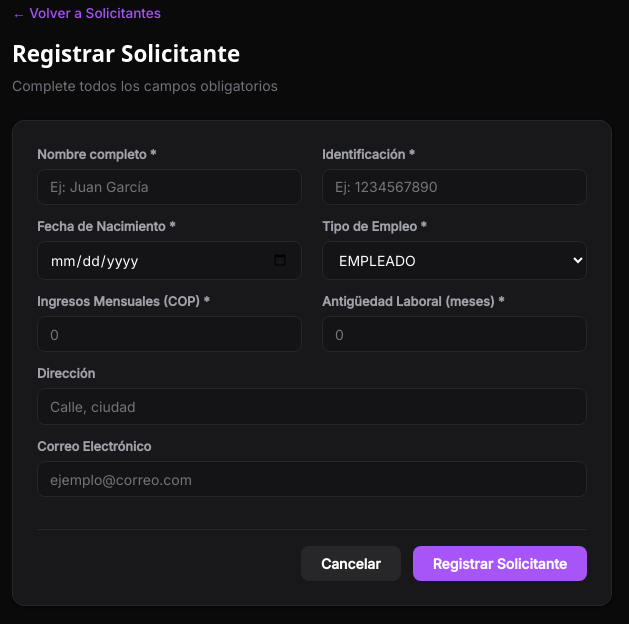
Test: RegisterApplicant — submit behavior › submit button is disabled while loading (promise pending)
This screenshot has width=629, height=624.
Type "Carlos Lopez" into the field with placeholder "Ej: Juan García" at coordinates (170, 187), box x1=37 y1=169 x2=302 y2=205
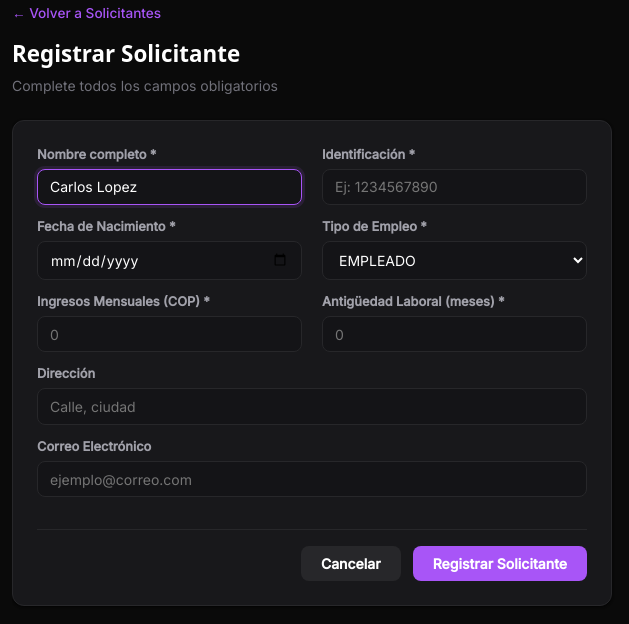
Type "1122334455" into the field with placeholder "Ej: 1234567890" at coordinates (454, 187), box x1=322 y1=169 x2=587 y2=205
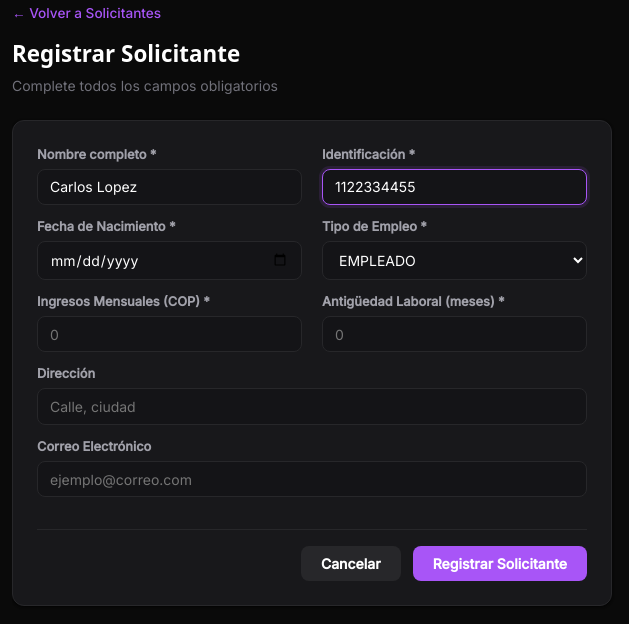
Type "1990-05-15" into the date field at coordinates (170, 260), box x1=37 y1=241 x2=302 y2=280
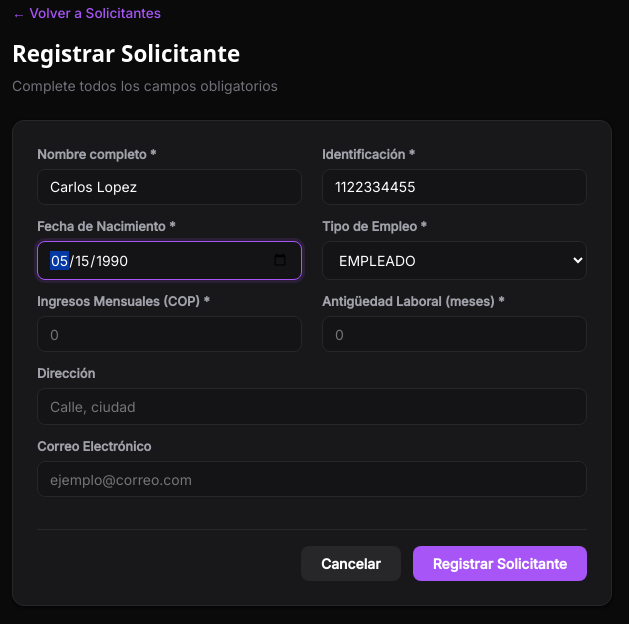
Type "2500000" into the number field with placeholder "0" below "Ingresos Mensuales (COP) *" at coordinates (170, 334), box x1=37 y1=316 x2=302 y2=352
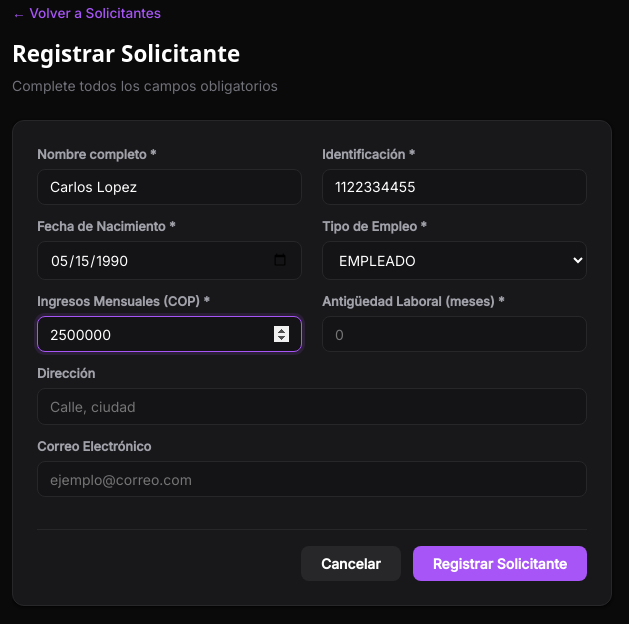
Type "36" into the number field with placeholder "0" at coordinates (454, 334), box x1=322 y1=316 x2=587 y2=352
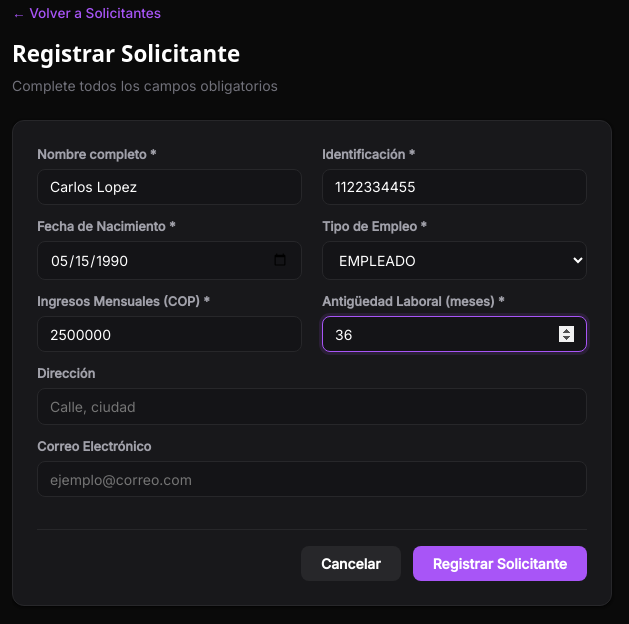
Click the button "Registrar Solicitante" at coordinates (500, 564), box x1=413 y1=546 x2=587 y2=581
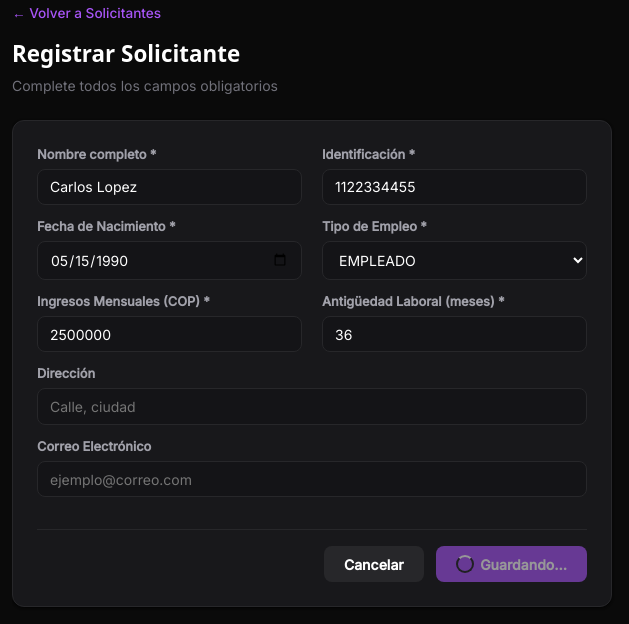
Now the button "Guardando..." is disabled, box x1=436 y1=546 x2=587 y2=582
